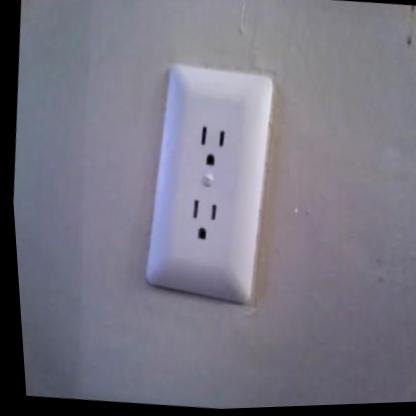OUTLET: (130, 56, 288, 300)
